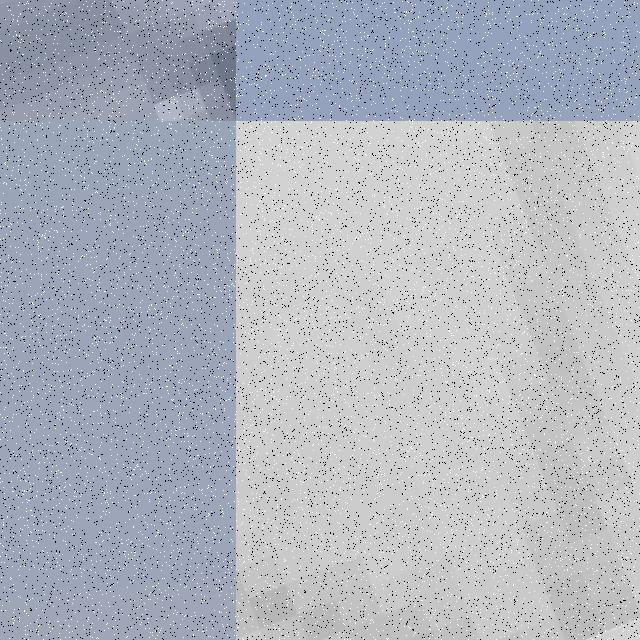drone: (236, 121, 640, 640), (0, 0, 236, 121)
